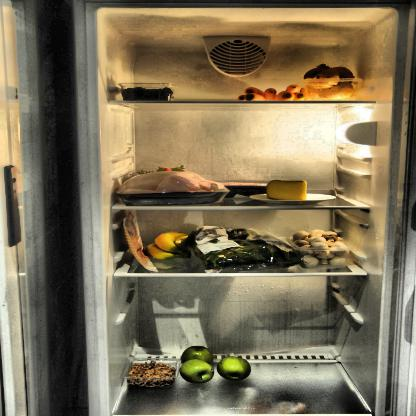apple: (180, 346, 250, 384)
banana: (146, 230, 212, 257)
blueberries: (119, 80, 175, 101)
carrot: (236, 83, 310, 102)
cheese: (265, 179, 308, 202)
chicken: (118, 170, 231, 205)
mushrooms: (289, 229, 358, 267)
onion: (304, 64, 362, 100)
shrimp: (126, 359, 173, 388)
spinach: (188, 228, 300, 272)
